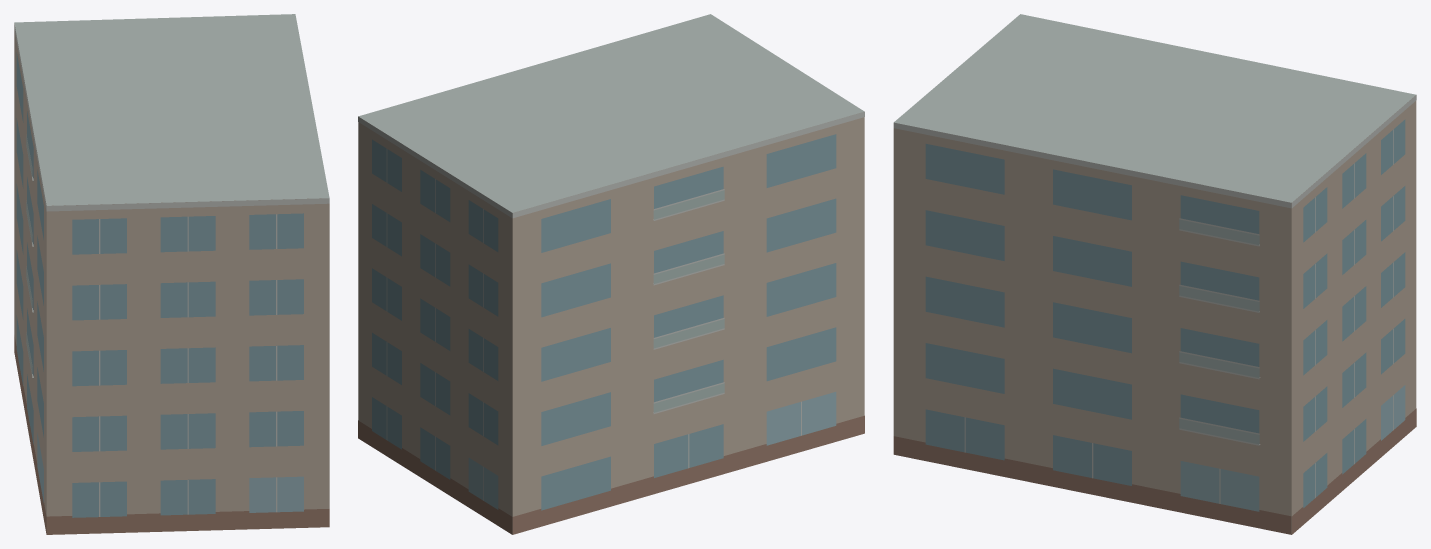
The model's file is survey-upis-32531699.glb.
3 renders of one model, left to right at view 1: azimuth 30°, elevation 25°; view 2: azimuth 150°, elevation 25°; view 3: azimuth 270°, elevation 25°, orthographic. The views are drawn at different scales.
Parts seen in each view (by area): view 1: survey-upis-32531699.tmp; view 2: survey-upis-32531699.tmp; view 3: survey-upis-32531699.tmp.
Boxes of the visible parts, bbox=[...] form: survey-upis-32531699.tmp: bbox=[14, 14, 329, 534]; survey-upis-32531699.tmp: bbox=[358, 14, 864, 534]; survey-upis-32531699.tmp: bbox=[893, 14, 1416, 534].
Size of the model in its own units: 17.57 by 14.4 by 20.55.
